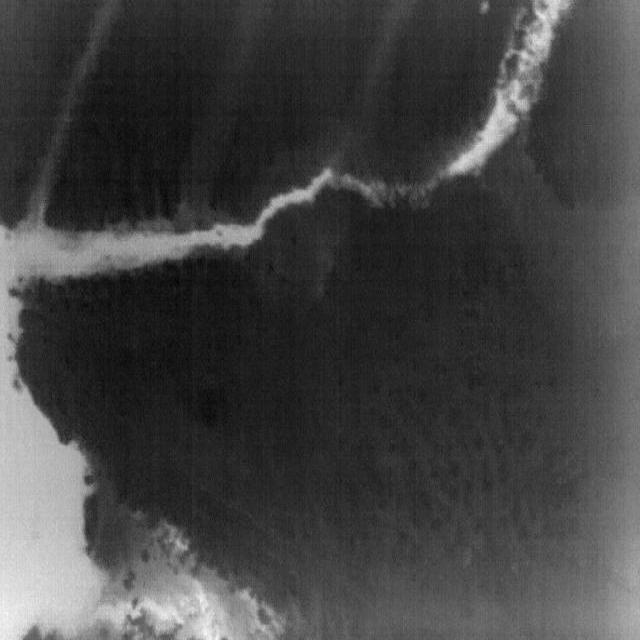deer: (478, 0, 489, 15)
